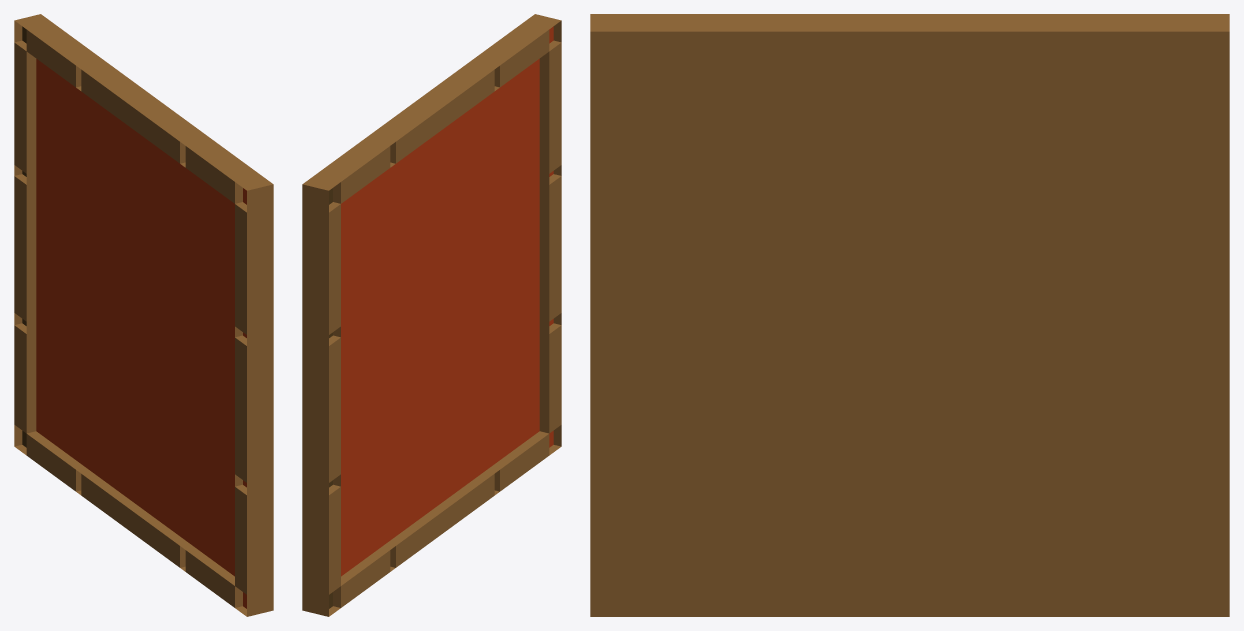
The model's file is Puerta_animada.fbx.
3 renders of one model, left to right at view 1: azimuth 30°, elevation 25°; view 2: azimuth 150°, elevation 25°; view 3: azimuth 270°, elevation 25°, orthographic. The views are drawn at different scales.
Parts seen in each view (by area): view 1: puerta_der, puerta_izq; view 2: puerta_izq, puerta_der; view 3: puerta_der, puerta_izq.
Part boxes in pixels (box(x1,y1,x2,y2)): puerta_der: box(130, 99, 273, 616); puerta_izq: box(14, 14, 156, 531); puerta_izq: box(302, 99, 445, 616); puerta_der: box(419, 14, 561, 531); puerta_der: box(590, 14, 909, 616); puerta_izq: box(910, 14, 1229, 616).
Size of the model in its own units: 45.83 by 704 by 697.
